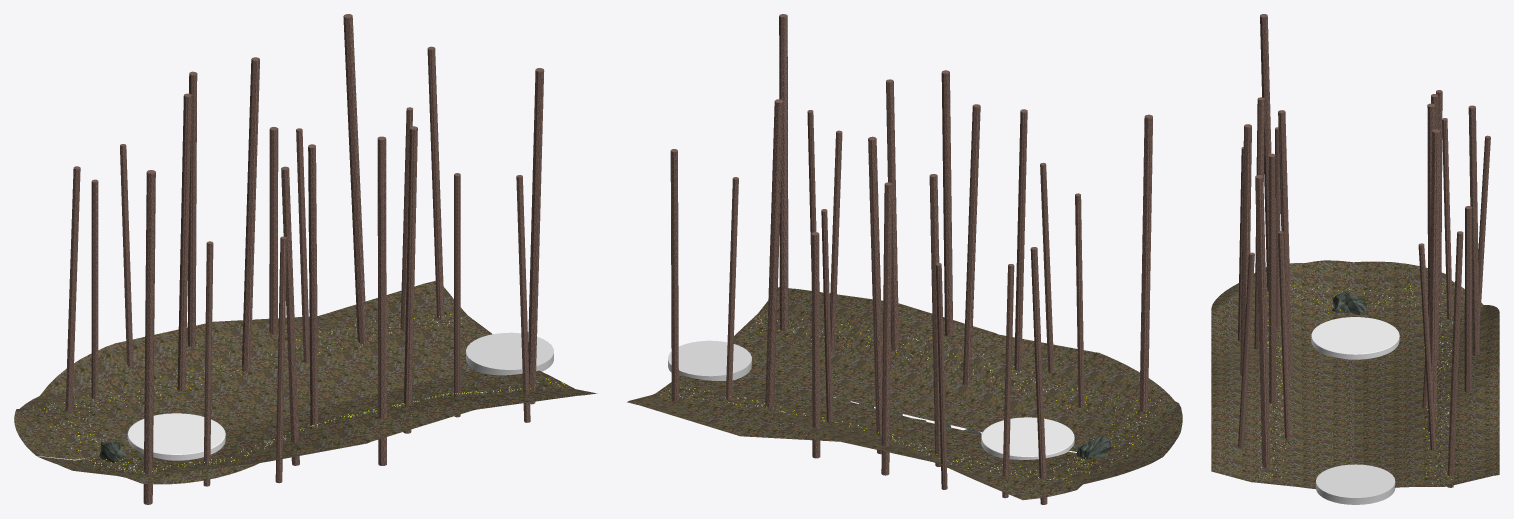
File: forest15.glb
3 renders of one model, left to right at view 1: azimuth 30°, elevation 25°; view 2: azimuth 150°, elevation 25°; view 3: azimuth 270°, elevation 25°, orthographic. The views are drawn at different scales.
Parts seen in each view (by area): view 1: Landscape.1, Trees, Cylinder, End; view 2: Landscape.1, Trees, Cylinder, End; view 3: Landscape.1, Trees, Cylinder, End, Sphere.8, Cloner.1-PBR.
Part boxes in pixels (bbox=[...]): Landscape.1: bbox=[14, 281, 597, 484]; Trees: bbox=[65, 14, 544, 504]; Cylinder: bbox=[127, 413, 225, 460]; End: bbox=[466, 332, 553, 375]; Landscape.1: bbox=[627, 287, 1182, 500]; Trees: bbox=[670, 14, 1152, 504]; Cylinder: bbox=[981, 417, 1074, 459]; End: bbox=[668, 340, 751, 380]; Landscape.1: bbox=[1211, 260, 1499, 489]; Trees: bbox=[1238, 14, 1490, 487]; Cylinder: bbox=[1311, 317, 1399, 359]; End: bbox=[1316, 464, 1395, 504]; Sphere.8: bbox=[1332, 291, 1367, 315]; Cloner.1-PBR: bbox=[1258, 283, 1451, 479].
Size of the model in its own units: 121 by 79.8 by 65.31.
7 materials, 3 textured.
